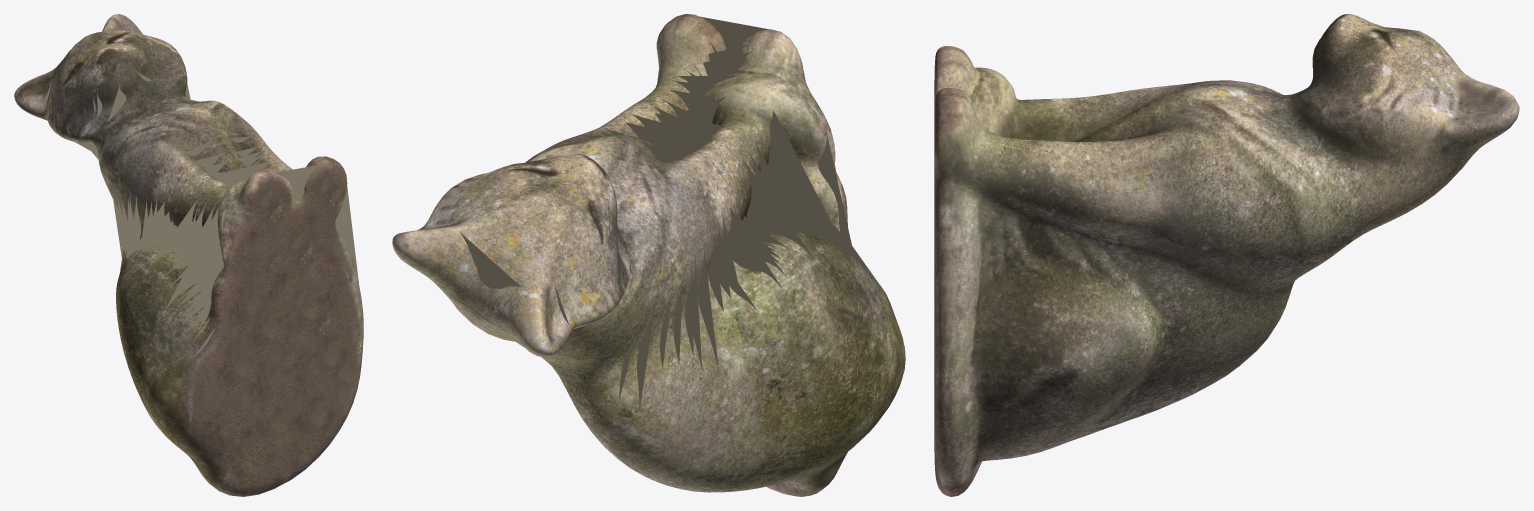
Rendered from finalCat.fbx.
The picture shows the model from 3 angles, left to right: view 1: azimuth 30°, elevation 25°; view 2: azimuth 150°, elevation 25°; view 3: azimuth 270°, elevation 25°; orthographic projection. The views are drawn at different scales.
Parts seen in each view (by area): view 1: concrete_cat_statue; view 2: concrete_cat_statue; view 3: concrete_cat_statue.
Part boxes in pixels (bbox=[...]): concrete_cat_statue: bbox=[14, 14, 363, 496]; concrete_cat_statue: bbox=[392, 14, 905, 496]; concrete_cat_statue: bbox=[934, 14, 1519, 496].
Bounding box in the file's own units: 1530 × 2500 × 2830.
Materials: 1 (1 with a texture image).
